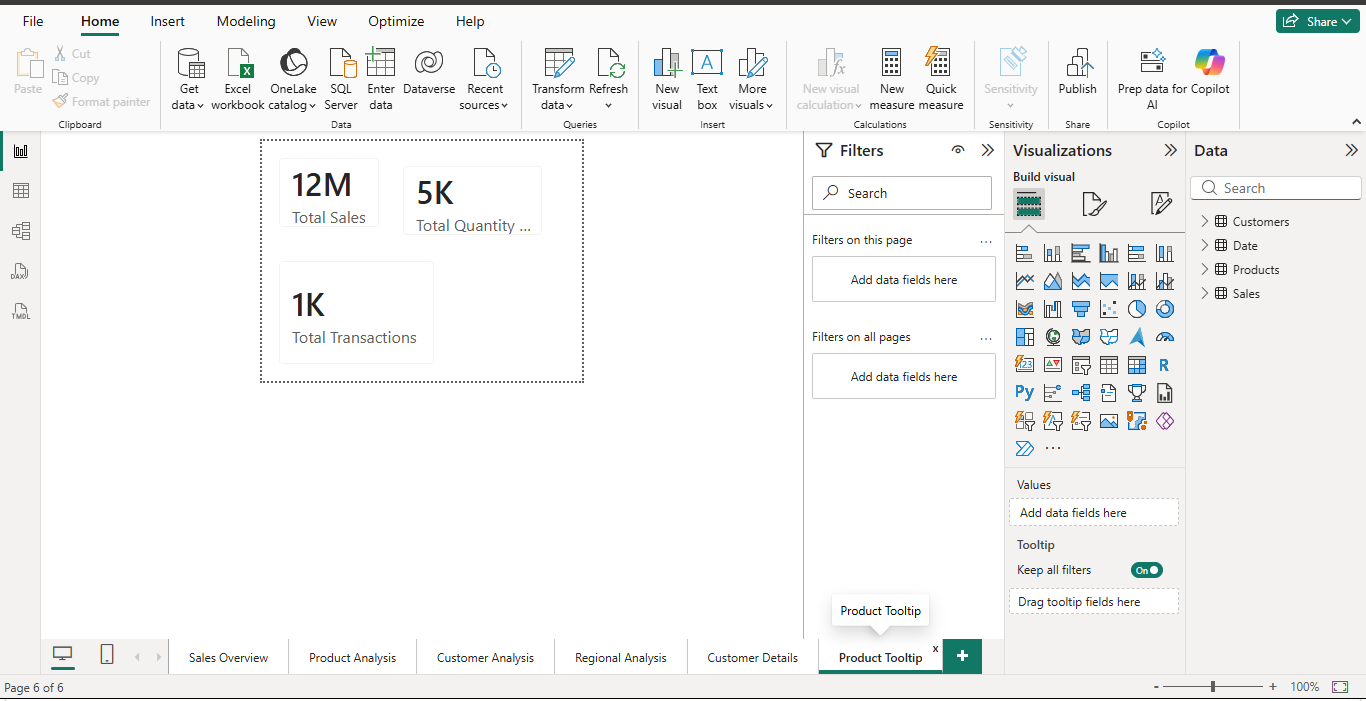

What the dashboard file says about the page in this screenshot:
{"tool":"powerbi","page":{"name":"Product Tooltip","canvas":[320,240],"ordinal":5},"visuals":[{"type":"cardVisual","fields":{"Data":["Sales.Total Sales"]},"box":[0,0,134,103],"z":0},{"type":"cardVisual","fields":{"Data":["Sales.Total Quantity Sold"]},"box":[124,8,173,103],"z":1000},{"type":"cardVisual","fields":{"Data":["Sales.Total Transactions"]},"box":[0,103,189,137],"z":2000}]}

Visuals, with their boxes on the page's 320x240 design canvas (x1, y1, x2, y2). These are canvas units, not pixel positions in the 1366x701 screenshot, which may show the page scaled, cropped or inside an application window:
cardVisual - Sales.Total Sales: {"x1": 0, "y1": 0, "x2": 134, "y2": 103}
cardVisual - Sales.Total Quantity Sold: {"x1": 124, "y1": 8, "x2": 297, "y2": 111}
cardVisual - Sales.Total Transactions: {"x1": 0, "y1": 103, "x2": 189, "y2": 240}
